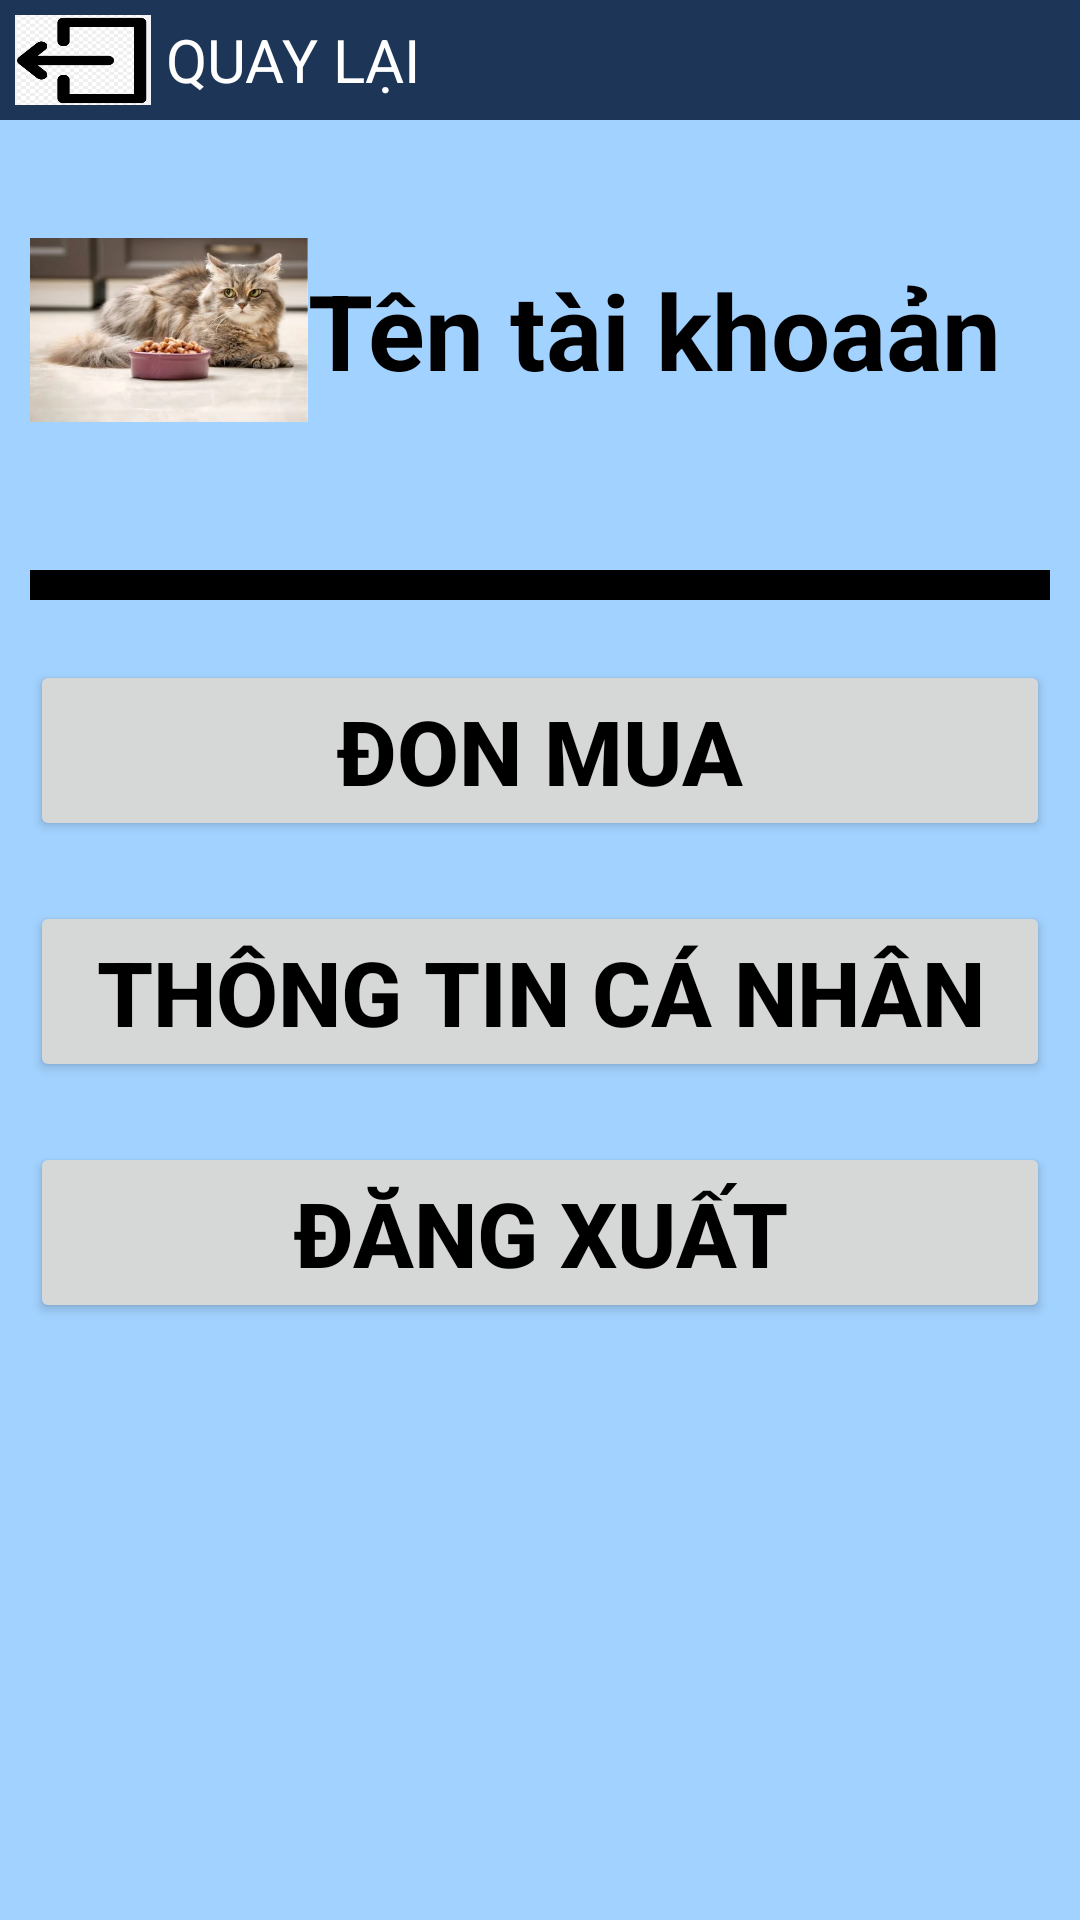

Named icons in this screenshot (1080px×1920px) and their centers, (x,y):
iconexit: (83,60)
thumbnailcat: (169,330)
